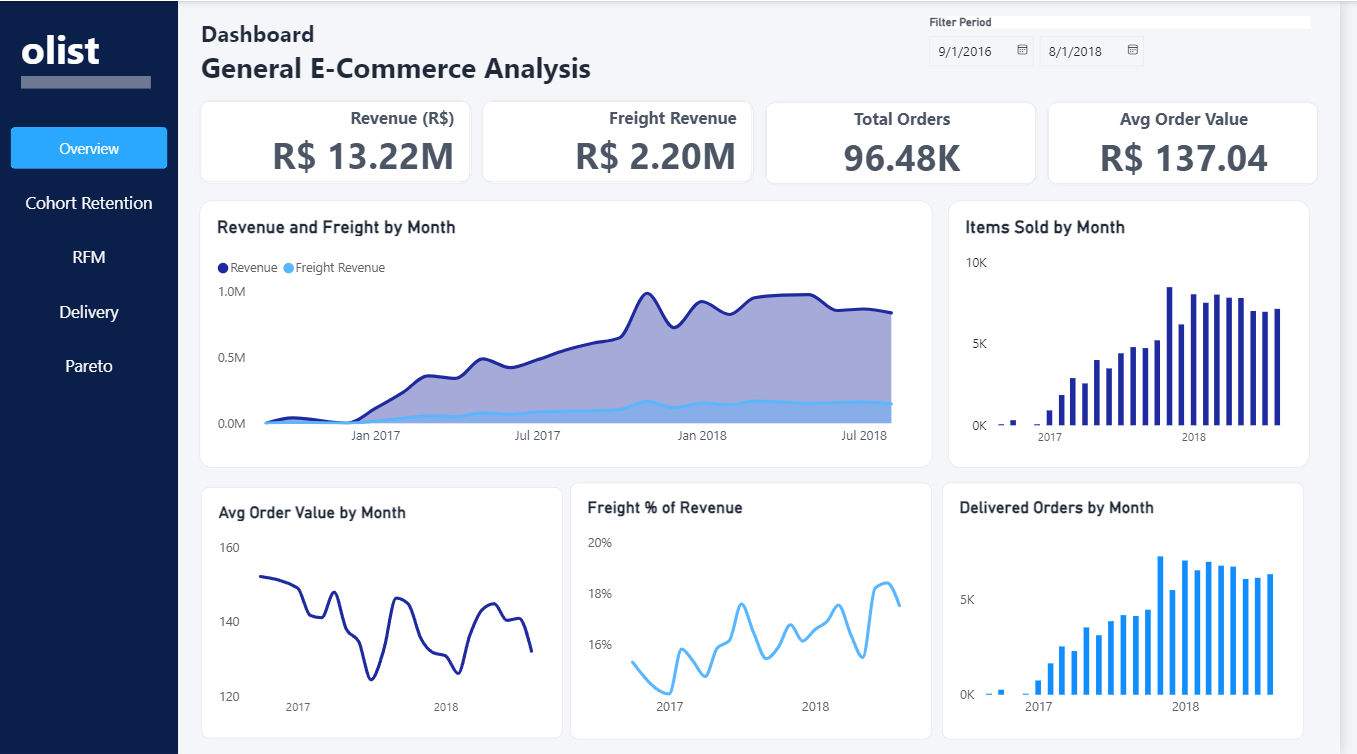

What the dashboard file says about the page in this screenshot:
{"tool":"powerbi","page":{"name":"Overview","canvas":[1280,720],"ordinal":0},"visuals":[{"type":"shape","box":[0,0,170,720],"z":0},{"type":"textbox","box":[20,20,160,64],"z":1000},{"type":"shape","box":[20,72,124,12],"z":2000},{"type":"pageNavigator","box":[10,120,150,250],"z":3000},{"type":"textbox","box":[192,16,480,70],"z":4000},{"type":"cardVisual","fields":{"Data":["Sum(monthly_sales.product_revenue)"]},"box":[190,95,260,80],"z":5000},{"type":"cardVisual","fields":{"Data":["Sum(monthly_sales.freight_value)"]},"box":[460,95,260,80],"z":6000},{"type":"cardVisual","fields":{"Data":["Sum(monthly_sales.delivered_orders)"]},"box":[730,96,260,80],"z":7000},{"type":"cardVisual","fields":{"Data":["monthly_sales.Weighted AOV"]},"box":[1000,96,260,80],"z":8000},{"type":"areaChart","title":"Revenue and Freight by Month","fields":{"Category":["monthly_sales.purchase_month"],"Y":["monthly_sales.Revenue","monthly_sales.Freight Revenue"]},"box":[190,190,700,255],"z":9000},{"type":"clusteredColumnChart","title":"Items Sold by Month","fields":{"Category":["monthly_sales.purchase_month"],"Y":["monthly_sales.Items Sold"]},"box":[905,190,345,255],"z":10000},{"type":"lineChart","title":"Avg Order Value by Month","fields":{"Category":["monthly_sales.purchase_month"],"Y":["monthly_sales.AOV clean"]},"box":[192,464,345,240],"z":11000},{"type":"lineChart","title":"Freight % of Revenue","fields":{"Category":["monthly_sales.purchase_month"],"Y":["monthly_sales.Freight% Clean"]},"box":[545,460,345,245],"z":12000},{"type":"clusteredColumnChart","title":"Delivered Orders by Month","fields":{"Category":["monthly_sales.purchase_month"],"Y":["monthly_sales.Delivered Orders"]},"box":[900,460,345,245],"z":13000},{"type":"slicer","fields":{"Values":["monthly_sales.purchase_month"]},"box":[880,15,380,70],"z":14000}]}

Visuals, with their boxes on the page's 1280x720 design canvas (x1, y1, x2, y2). These are canvas units, not pixel positions in the 1357x754 screenshot, which may show the page scaled, cropped or inside an application window:
shape: box(0, 0, 170, 720)
textbox: box(20, 20, 180, 84)
shape: box(20, 72, 144, 84)
pageNavigator: box(10, 120, 160, 370)
textbox: box(192, 16, 672, 86)
cardVisual - Sum(monthly_sales.product_revenue): box(190, 95, 450, 175)
cardVisual - Sum(monthly_sales.freight_value): box(460, 95, 720, 175)
cardVisual - Sum(monthly_sales.delivered_orders): box(730, 96, 990, 176)
cardVisual - monthly_sales.Weighted AOV: box(1000, 96, 1260, 176)
"Revenue and Freight by Month" areaChart: box(190, 190, 890, 445)
"Items Sold by Month" clusteredColumnChart: box(905, 190, 1250, 445)
"Avg Order Value by Month" lineChart: box(192, 464, 537, 704)
"Freight % of Revenue" lineChart: box(545, 460, 890, 705)
"Delivered Orders by Month" clusteredColumnChart: box(900, 460, 1245, 705)
slicer - monthly_sales.purchase_month: box(880, 15, 1260, 85)
